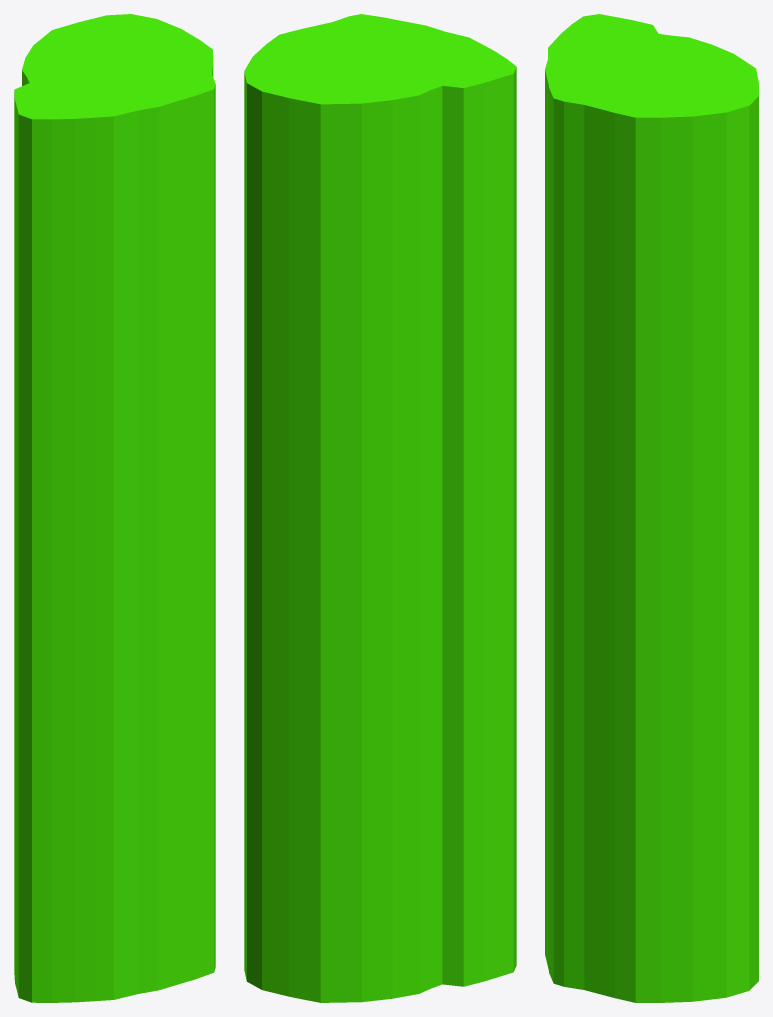
File: wood_area0105.dae
3 renders of one model, left to right at view 1: azimuth 30°, elevation 25°; view 2: azimuth 150°, elevation 25°; view 3: azimuth 270°, elevation 25°, orthographic.
Parts seen in each view (by area): view 1: Object_015; view 2: Object_015; view 3: Object_015.
Part boxes in pixels (<box>): Object_015: <box>14,14,215,1002</box>; Object_015: <box>244,14,516,1002</box>; Object_015: <box>545,14,758,1002</box>.
Size of the model in its own units: 92.98 by 81.04 by 370.
